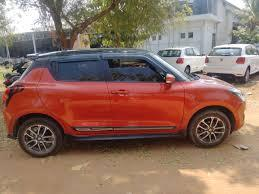Normal Automobiles: (3, 49, 244, 156), (204, 44, 258, 82), (158, 47, 204, 73), (3, 61, 29, 86)
